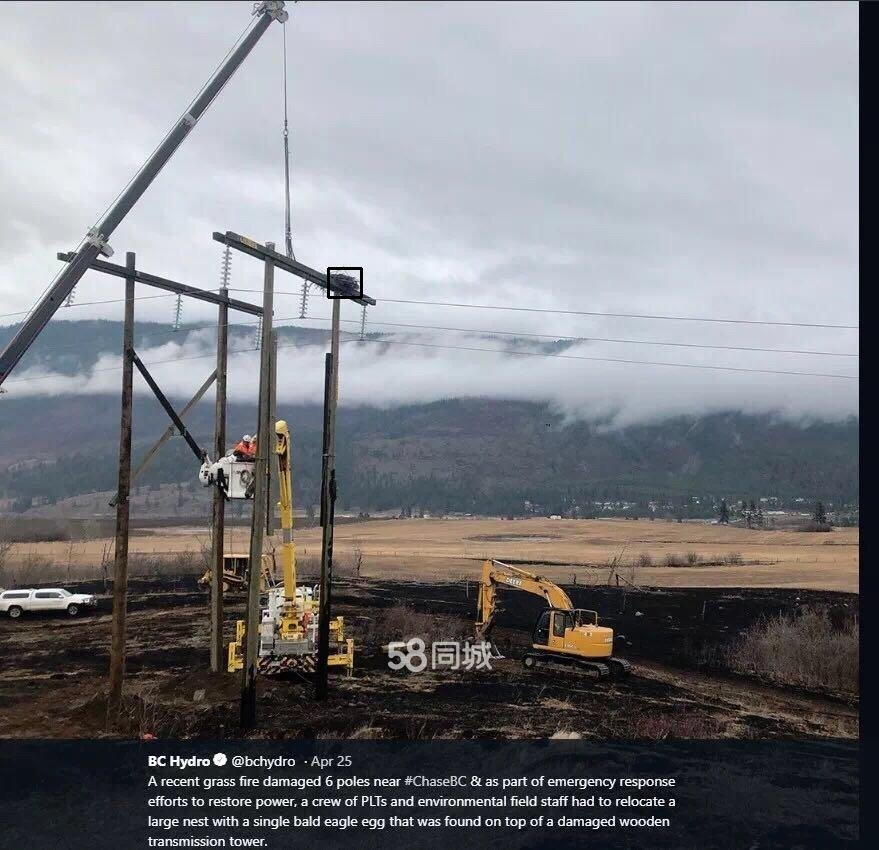bird-nest: (328, 268, 361, 297)
